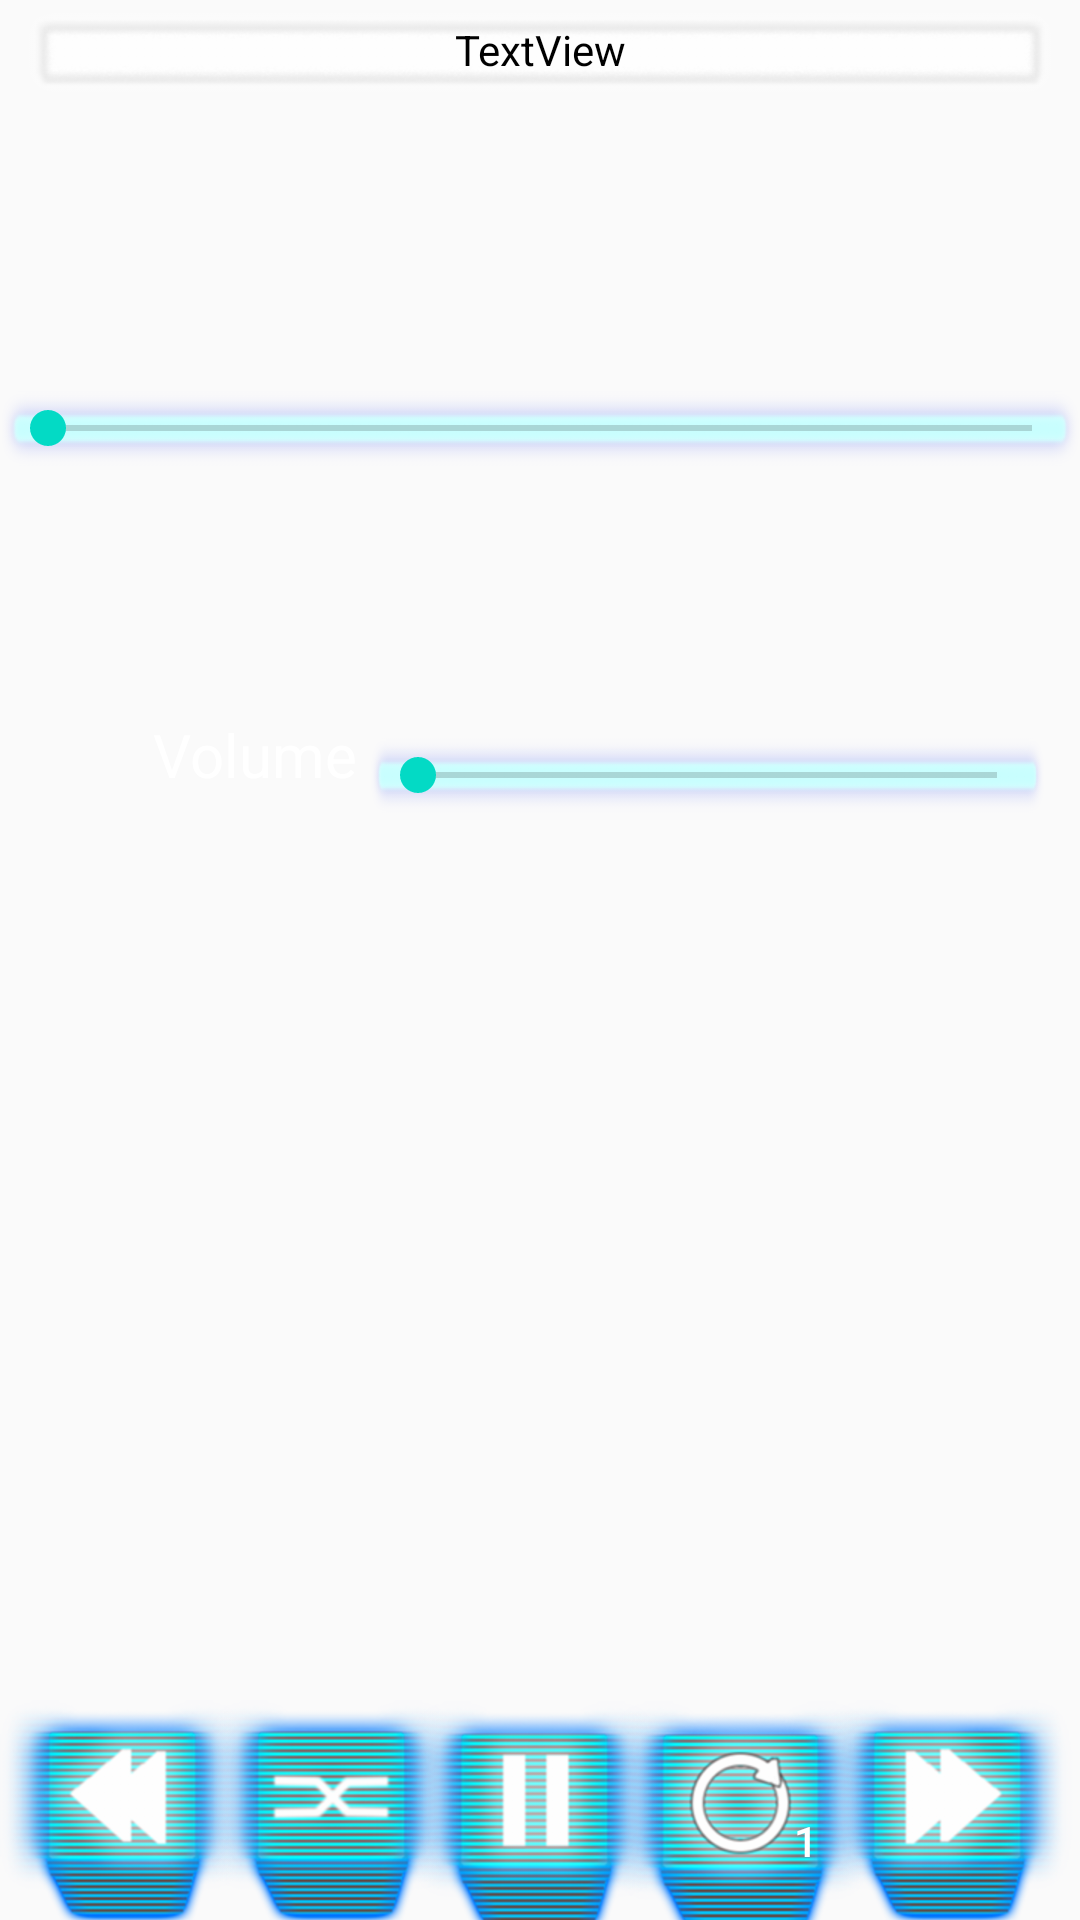

Icon click points for this 1080px x 1920px phone screenshot, format [x,y]:
next: [940,1818]
pause: [539,1797]
previous: [134,1818]
shuffle: [336,1797]
